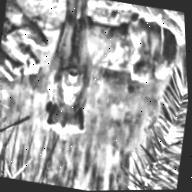boar: (31, 0, 119, 146)
